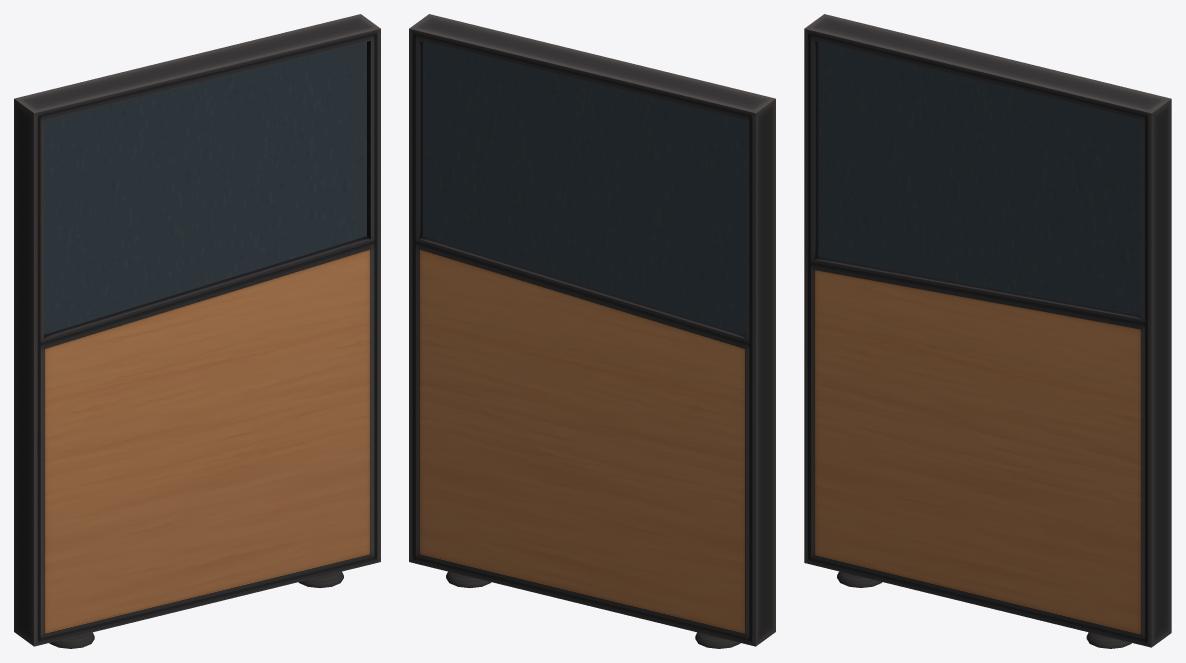
The model's file is OfficePartition01_1.FBX.
3 renders of one model, left to right at view 1: azimuth 30°, elevation 25°; view 2: azimuth 150°, elevation 25°; view 3: azimuth 330°, elevation 25°, orthographic.
Visible parts, largest first — view 1: OfficePartition01_1; view 2: OfficePartition01_1; view 3: OfficePartition01_1.
Part boxes in pixels (left/top/right/bottom): OfficePartition01_1: left=14, top=14, right=380, bottom=648; OfficePartition01_1: left=409, top=14, right=775, bottom=648; OfficePartition01_1: left=804, top=14, right=1171, bottom=648.
Size of what is drawn, in the model's own units: 1 by 1.5 by 0.12.
